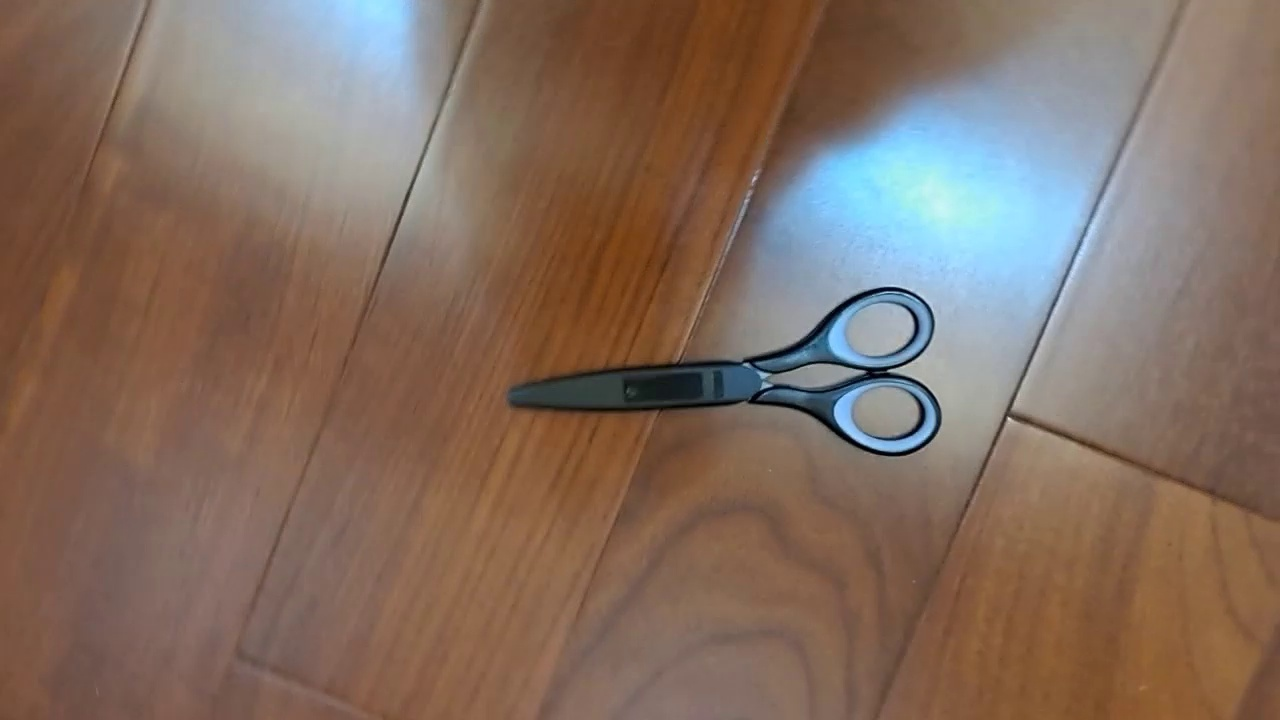scissors: (507, 286, 942, 457)
